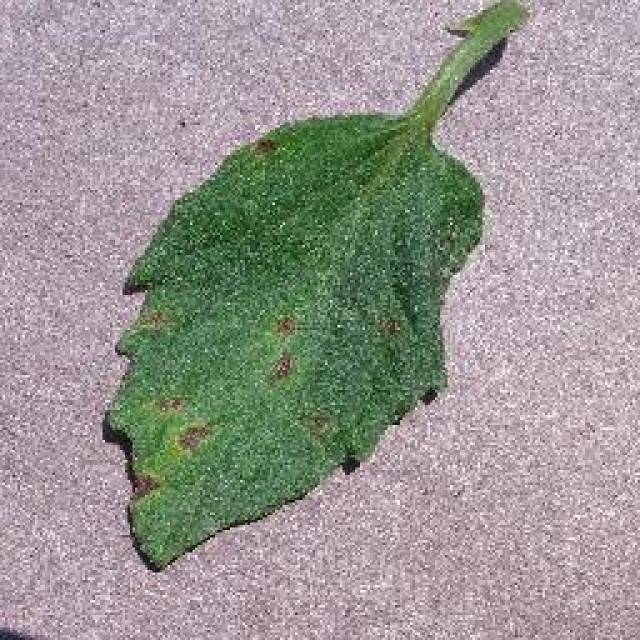Tomato___Septoria_leaf_spot: (105, 0, 525, 568)
